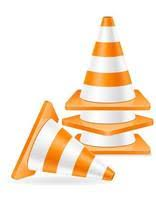cones: (17, 96, 114, 187), (72, 13, 147, 112)
